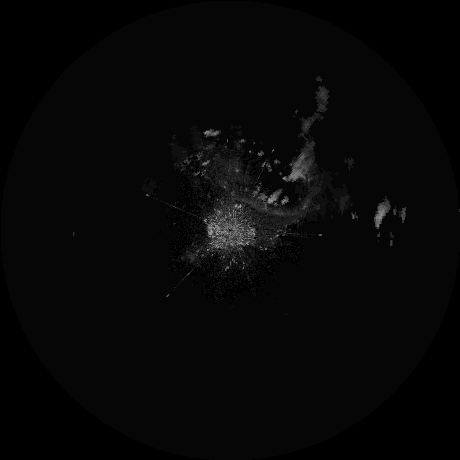frontgust: (240, 198, 301, 219)
